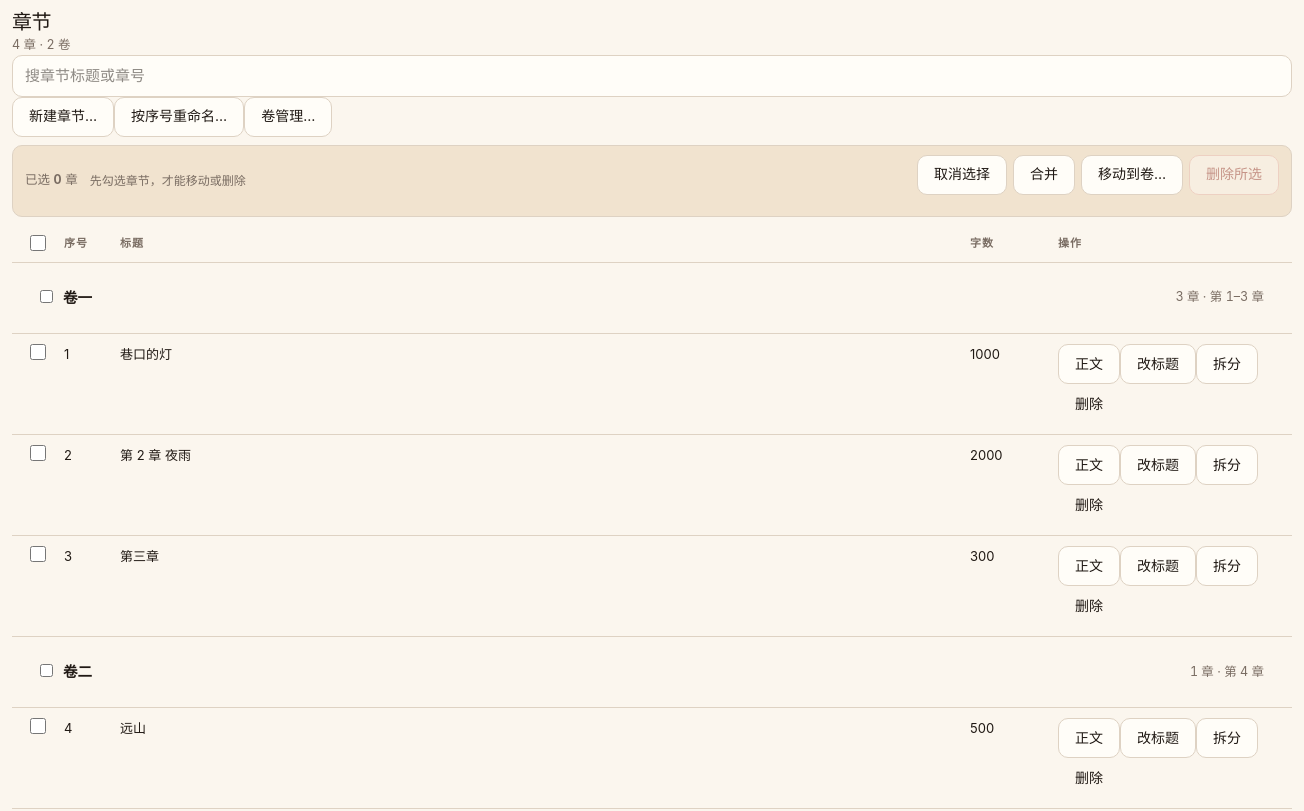
Test: 章节勾选与批量条 › 点行内按钮不会顺手勾中这一行
Click the button with test id "admin-chapter-edit-10".
click(1158, 364)  # box top-left (1120, 344), bottom-right (1196, 384)
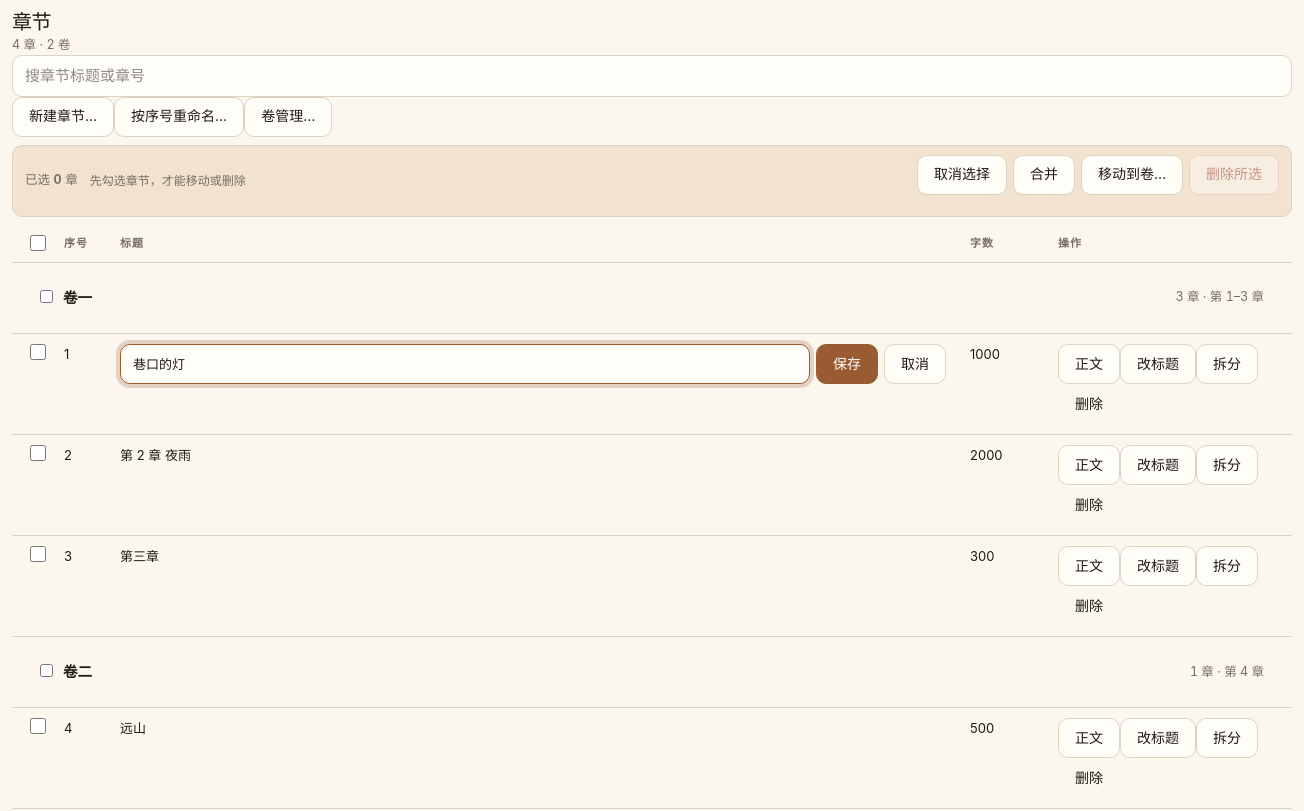
Expected: the element with test id "admin-ch-batch" shows "已选 0 章", top-left (12, 144), bottom-right (1292, 216)
Expected: the field with test id "admin-chapter-title-input" is shown, top-left (120, 344), bottom-right (810, 384)
